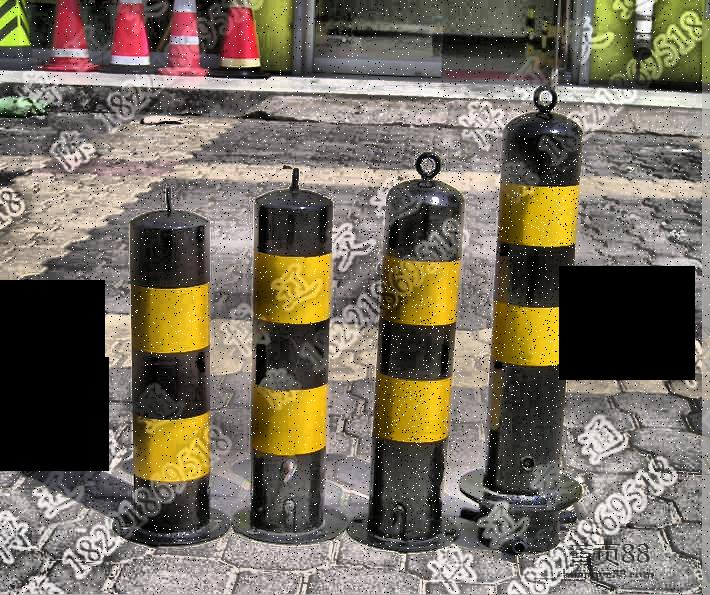bench: (479, 79, 584, 561), (361, 141, 463, 553), (123, 180, 230, 543), (247, 163, 344, 543)
